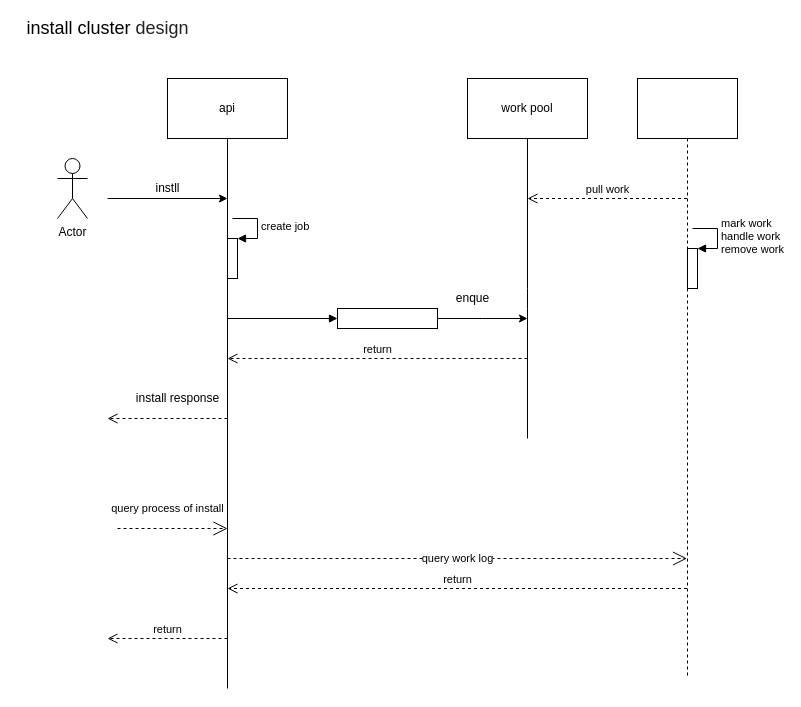
Some shapes in this 801 by 707 pixel diagram are drawn without their labels. The shapes that lost their labels are listed below. From the top down, each one's box as (x1, y1, x2, y2) in pixels, then its label:
(336, 308, 438, 328): register job
(636, 78, 738, 678): worker
